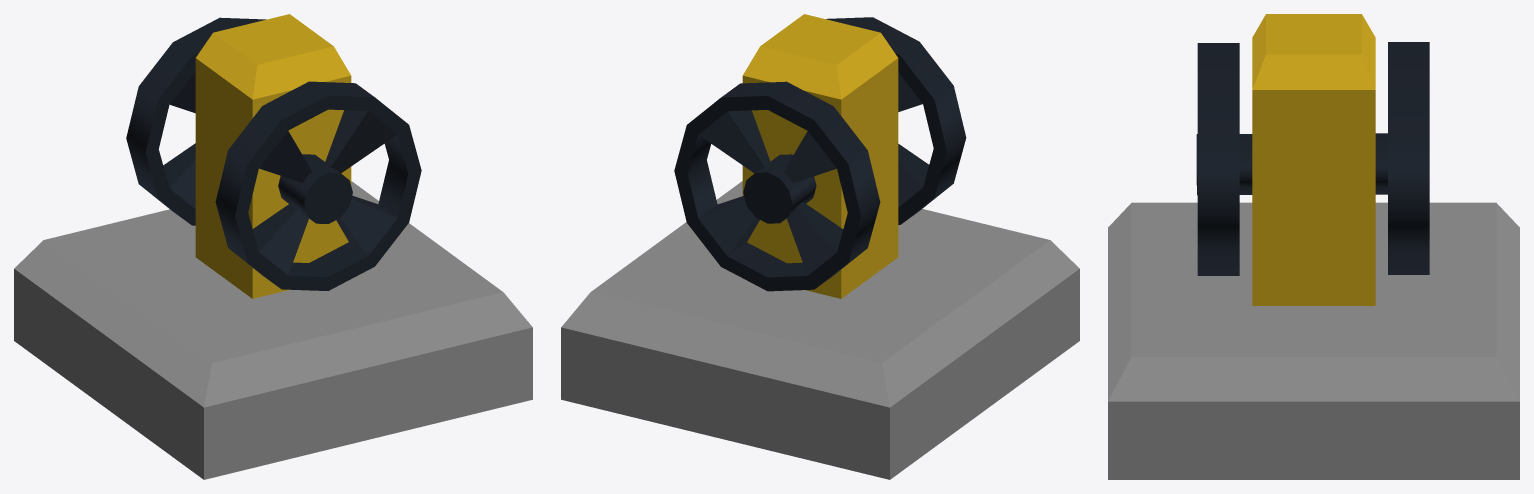
Rendered from 063 Water_Pump.FBX.
The picture shows the model from 3 angles, left to right: view 1: azimuth 30°, elevation 25°; view 2: azimuth 150°, elevation 25°; view 3: azimuth 270°, elevation 25°; orthographic projection. The views are drawn at different scales.
Visible parts, largest first — view 1: Box069; view 2: Box069; view 3: Box069.
Part boxes in pixels (x1,y1,x2,y2): Box069: (14,14,532,479); Box069: (561,14,1079,479); Box069: (1108,14,1519,479).
Bounding box in the file's own units: 134 × 129 × 134.
